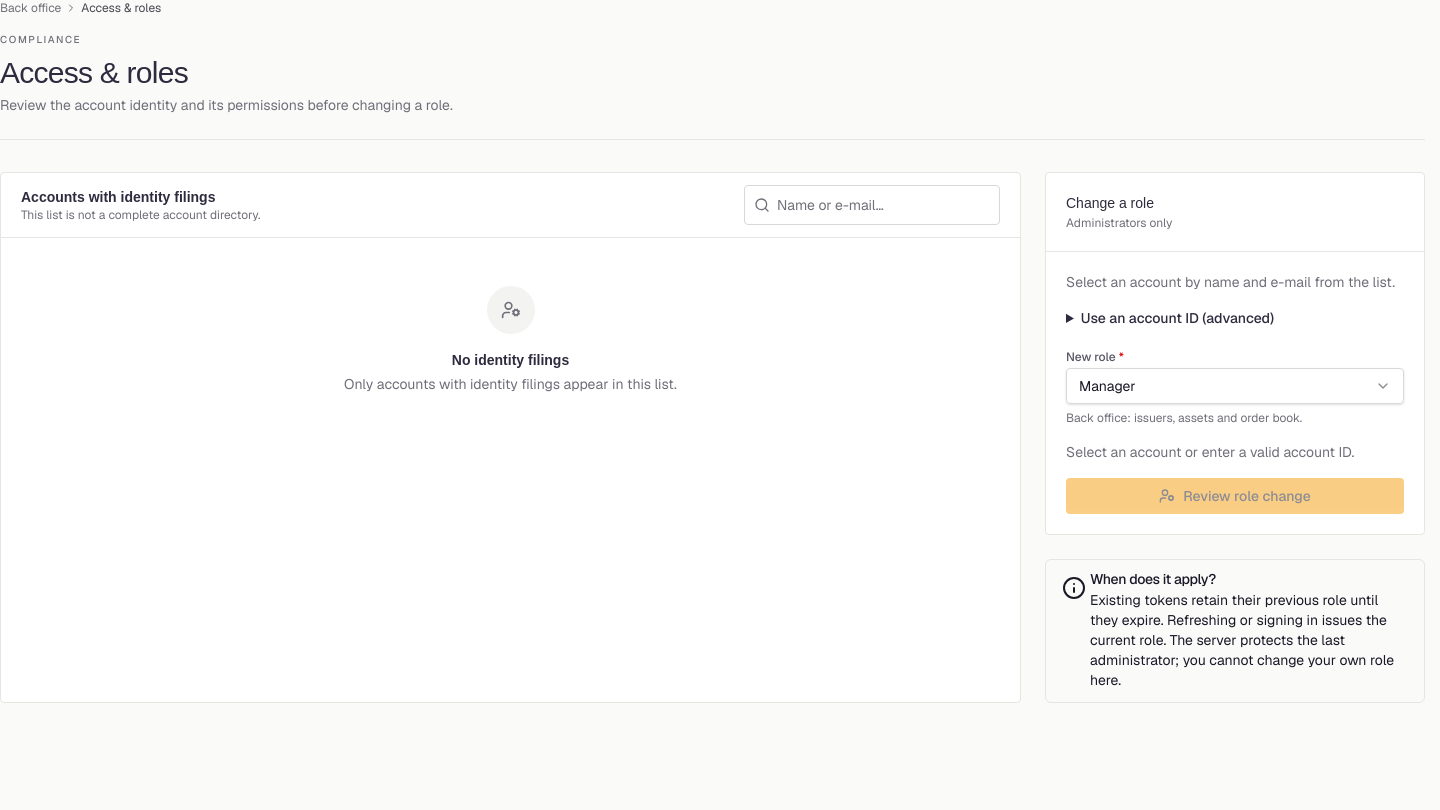
keeps an ID outside the filing list and its current role explicitly unknown
Click the heading "Use an account ID (advanced)" at (1177, 318), box [1081,309,1274,327]
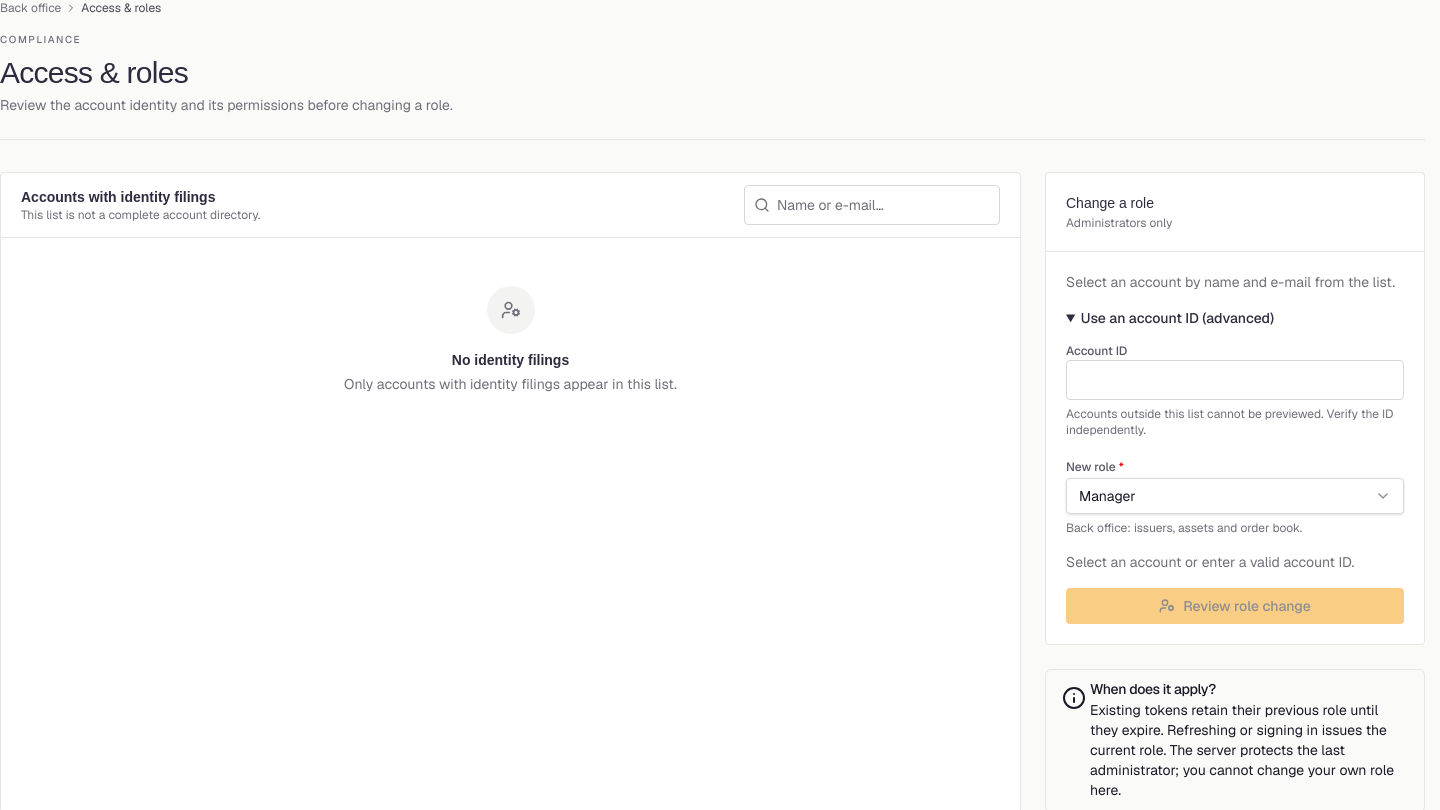
Type "4242" into the field labelled "Account ID" at (1235, 380), box [1066,360,1404,400]
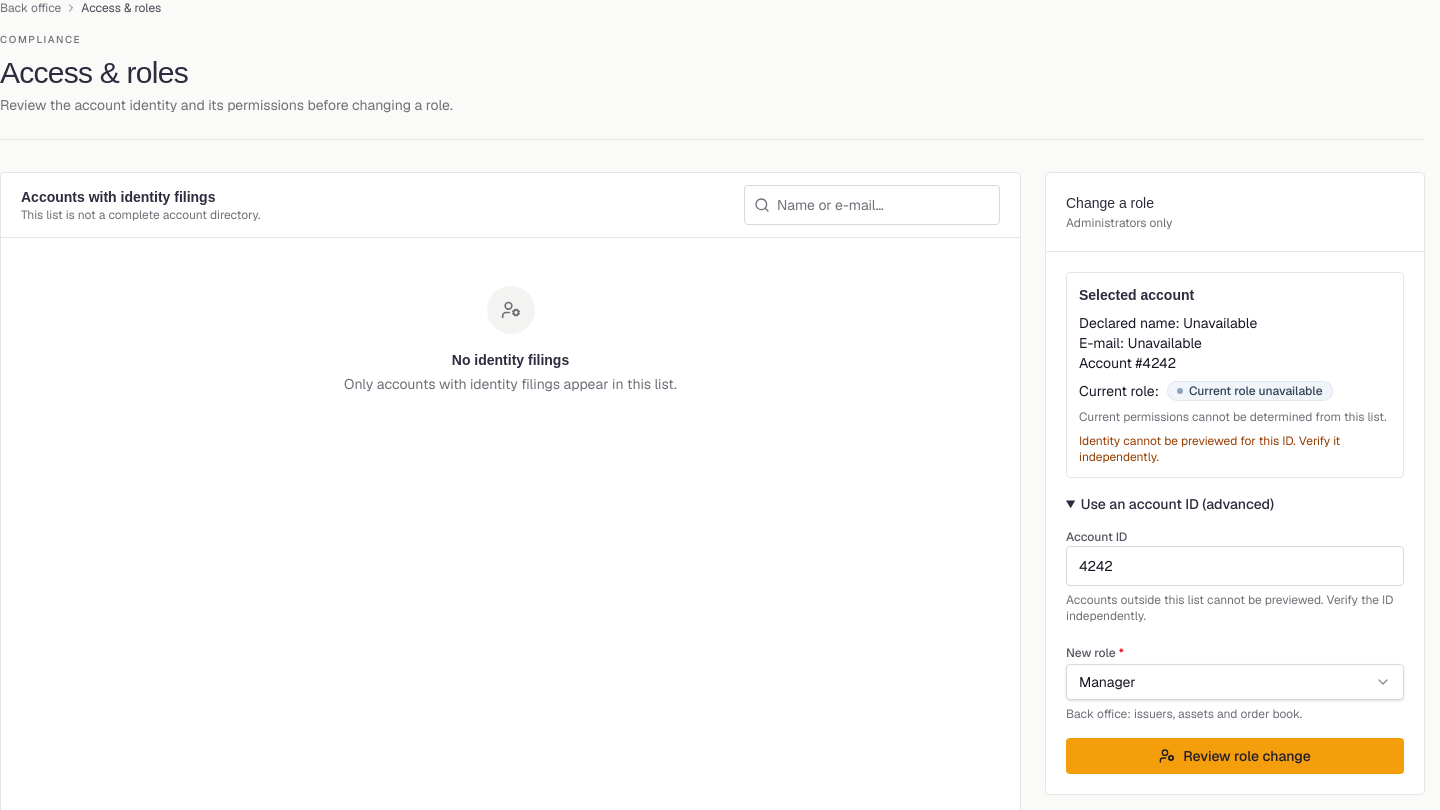
Result: the text "Current role unavailable" is shown at [1167,381,1333,401]
Result: the text "Identity cannot be previewed for this ID" is shown at [1079,433,1340,465]
Click the button "Review role change" at (1235, 756), box [1066,738,1404,774]
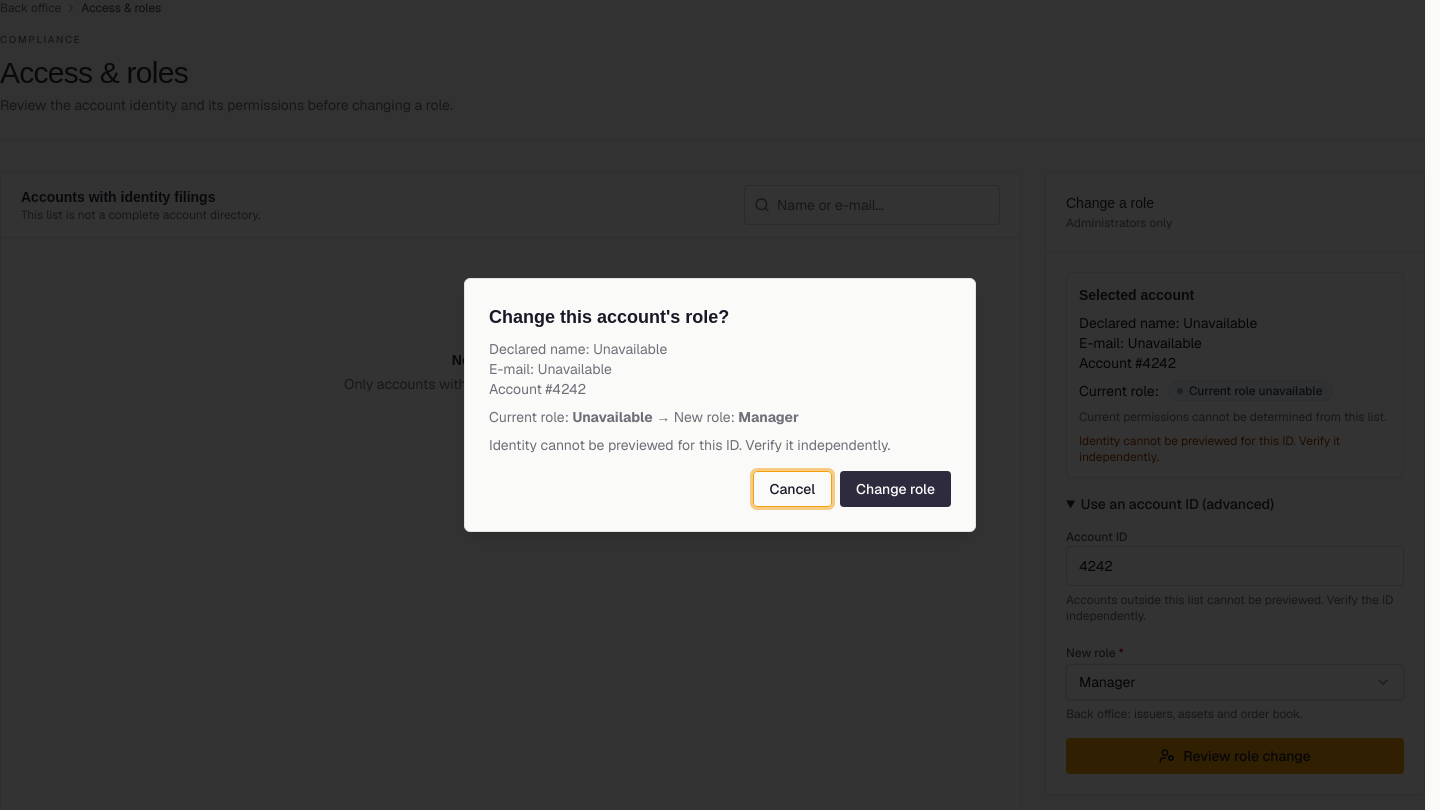
Result: the dialog shows "Account #4242" at [464,278,976,532]
Result: the text "Unavailable" is shown at [572,408,653,426]
Result: the text "Manager" is shown at [738,408,799,426]
